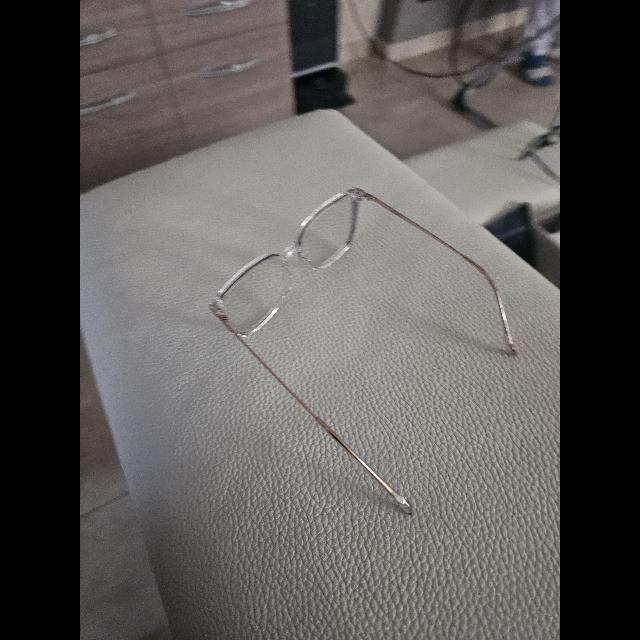glasses: (210, 188, 516, 514)
